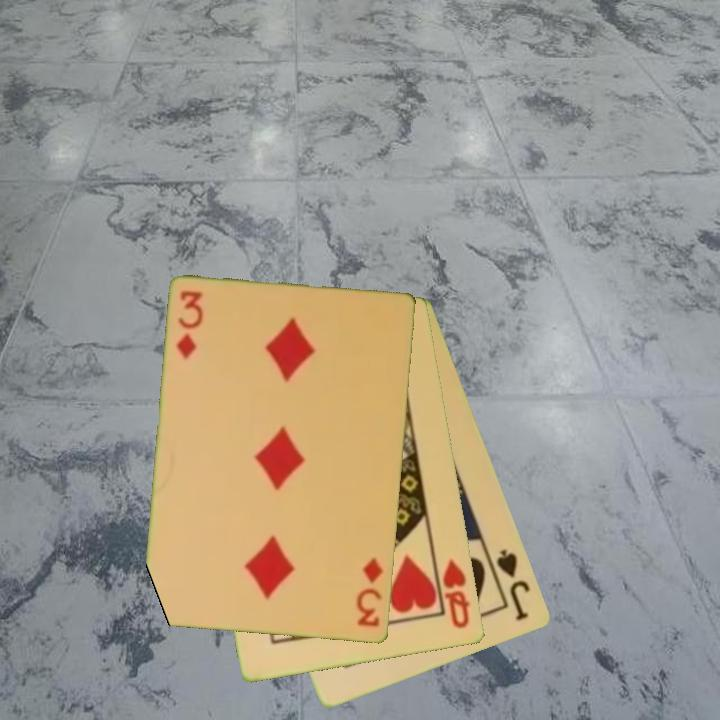3d: (353, 554, 386, 630), (173, 287, 206, 362)
Js: (493, 545, 534, 624)
Qh: (433, 554, 474, 632)
